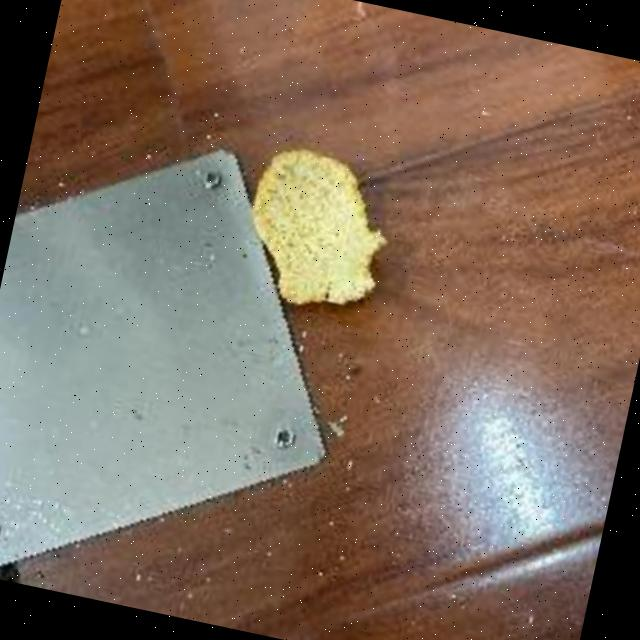orange-peel: (229, 134, 405, 323)
